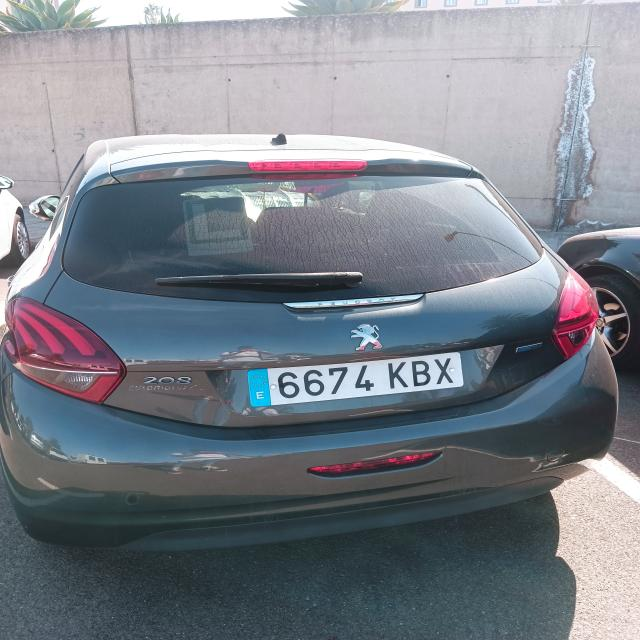football: (243, 352, 465, 408)
